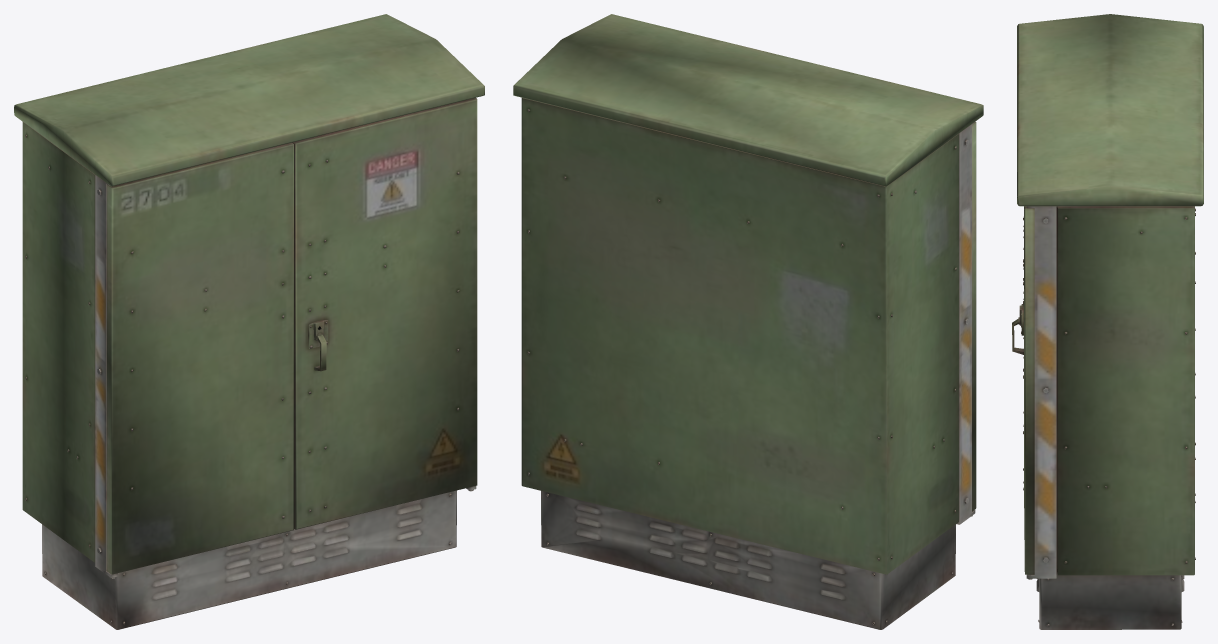
Rendered from cabinet.glb.
The picture shows the model from 3 angles, left to right: view 1: azimuth 30°, elevation 25°; view 2: azimuth 150°, elevation 25°; view 3: azimuth 270°, elevation 25°; orthographic projection. The views are drawn at different scales.
Visible parts, largest first — view 1: utility_box_02; view 2: utility_box_02; view 3: utility_box_02.
Boxes of the visible parts, bbox=[...] form: utility_box_02: bbox=[14, 14, 484, 629]; utility_box_02: bbox=[513, 14, 983, 629]; utility_box_02: bbox=[1012, 14, 1203, 629].
Size of the model in its own units: 0.92 by 1.12 by 0.4312.
1 material, 1 textured.
